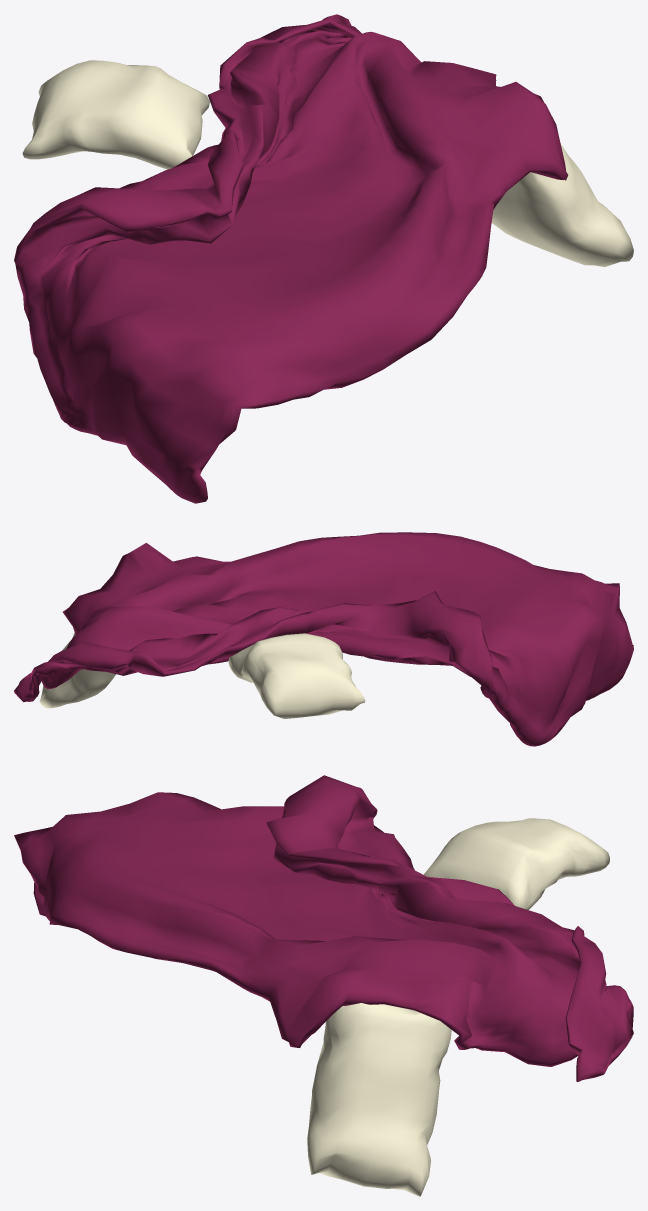
The model's file is Bed_Sheets_Unmade1.fbx.
3 renders of one model, top to bottom at view 1: azimuth 30°, elevation 25°; view 2: azimuth 150°, elevation 25°; view 3: azimuth 270°, elevation 25°, orthographic. The views are drawn at different scales.
Visible parts, largest first — view 1: Bed Blanket - Unmade, Bed Pillow - Unmade; view 2: Bed Blanket - Unmade, Bed Pillow - Unmade; view 3: Bed Blanket - Unmade, Bed Pillow - Unmade.
Part boxes in pixels (x1,y1,x2,y2): Bed Blanket - Unmade: [14, 14, 568, 503]; Bed Pillow - Unmade: [22, 60, 633, 266]; Bed Blanket - Unmade: [14, 532, 633, 746]; Bed Pillow - Unmade: [39, 633, 365, 718]; Bed Blanket - Unmade: [14, 775, 633, 1081]; Bed Pillow - Unmade: [307, 818, 609, 1196].
Bounding box in the file's own units: 216 × 73.66 × 211.
